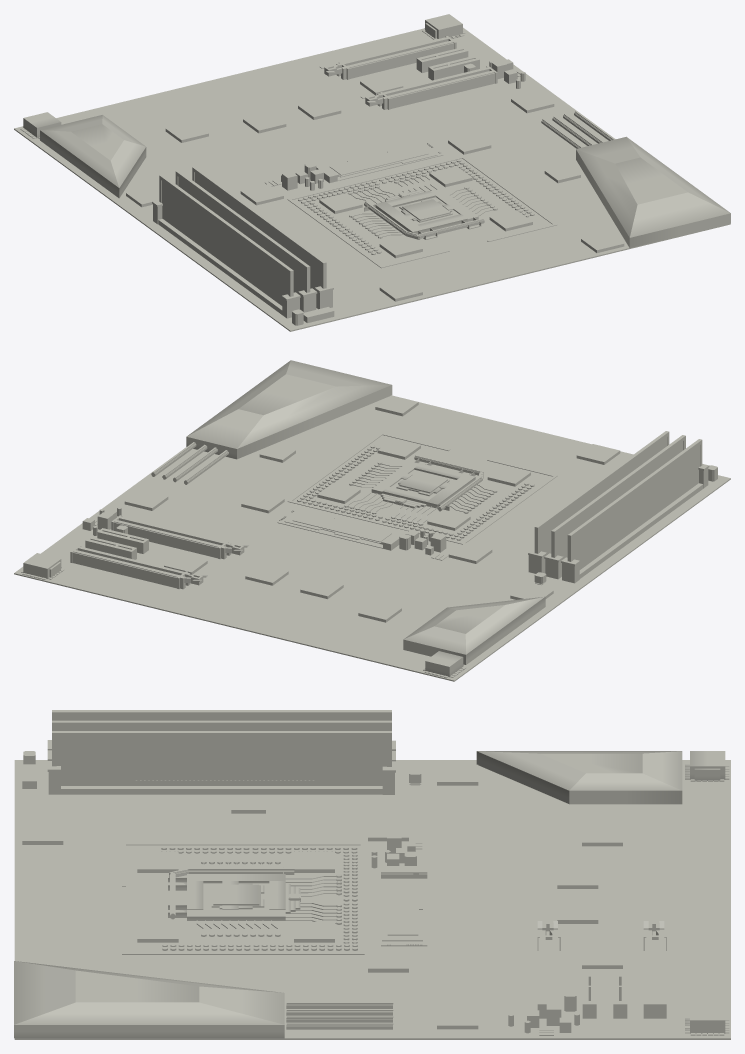
Rendered from MotherBoardV2CBVersion.fbx.
The picture shows the model from 3 angles, top to bottom: view 1: azimuth 30°, elevation 25°; view 2: azimuth 150°, elevation 25°; view 3: azimuth 270°, elevation 25°; orthographic projection. The views are drawn at different scales.
Parts seen in each view (by area): view 1: Plane, cuboid_1, RamStick, cuboid, RamStick_98, RamStick_50, cube_1086, cube_1204, cube_1126, cube_1072, RamStick_51, RamStick_99 (+20 smaller); view 2: Plane, cuboid_1, RamStick, cuboid, RamStick_50, RamStick_98, cube_1071, cube_1204, cube_1126, cube_1083, RamStick_99, RamStick_51 (+19 smaller); view 3: Plane, cuboid_1, RamStick_98, cuboid, RamStick, cube_1170, RamStick_51, RamStick_99, cube_1126, RamStick_50, cube_7, CPU (+23 smaller).
Part boxes in pixels (bbox=[...]): Plane: bbox=[14, 27, 730, 331]; cuboid_1: bbox=[576, 136, 730, 247]; RamStick: bbox=[159, 174, 293, 305]; cuboid: bbox=[40, 115, 146, 198]; RamStick_98: bbox=[194, 173, 321, 289]; RamStick_50: bbox=[178, 177, 304, 293]; cube_1086: bbox=[390, 73, 494, 108]; cube_1204: bbox=[158, 219, 282, 314]; cube_1126: bbox=[329, 145, 428, 175]; cube_1072: bbox=[349, 43, 453, 78]; RamStick_51: bbox=[175, 170, 310, 270]; RamStick_99: bbox=[192, 166, 326, 266]; Plane: bbox=[14, 396, 730, 681]; cuboid_1: bbox=[186, 360, 392, 459]; RamStick: bbox=[567, 439, 702, 569]; cuboid: bbox=[403, 596, 545, 664]; RamStick_50: bbox=[556, 441, 683, 559]; RamStick_98: bbox=[540, 437, 666, 554]; cube_1071: bbox=[72, 552, 176, 588]; cube_1204: bbox=[579, 483, 703, 578]; cube_1126: bbox=[292, 512, 391, 542]; cube_1083: bbox=[113, 522, 217, 558]; RamStick_99: bbox=[534, 431, 669, 530]; RamStick_51: bbox=[551, 435, 685, 534]; Plane: bbox=[14, 760, 730, 1039]; cuboid_1: bbox=[14, 961, 284, 1038]; RamStick_98: bbox=[56, 737, 386, 785]; cuboid: bbox=[476, 751, 682, 804]; RamStick: bbox=[52, 710, 391, 720]; cube_1170: bbox=[61, 786, 382, 794]; RamStick_51: bbox=[52, 720, 391, 726]; RamStick_99: bbox=[52, 731, 391, 737]; cube_1126: bbox=[387, 879, 418, 935]; RamStick_50: bbox=[56, 727, 386, 730]; cube_7: bbox=[187, 909, 285, 920]; CPU: bbox=[213, 884, 259, 905].
Bounding box in the file's own units: 500 × 51.88 × 544.
3 materials, 3 textured.
